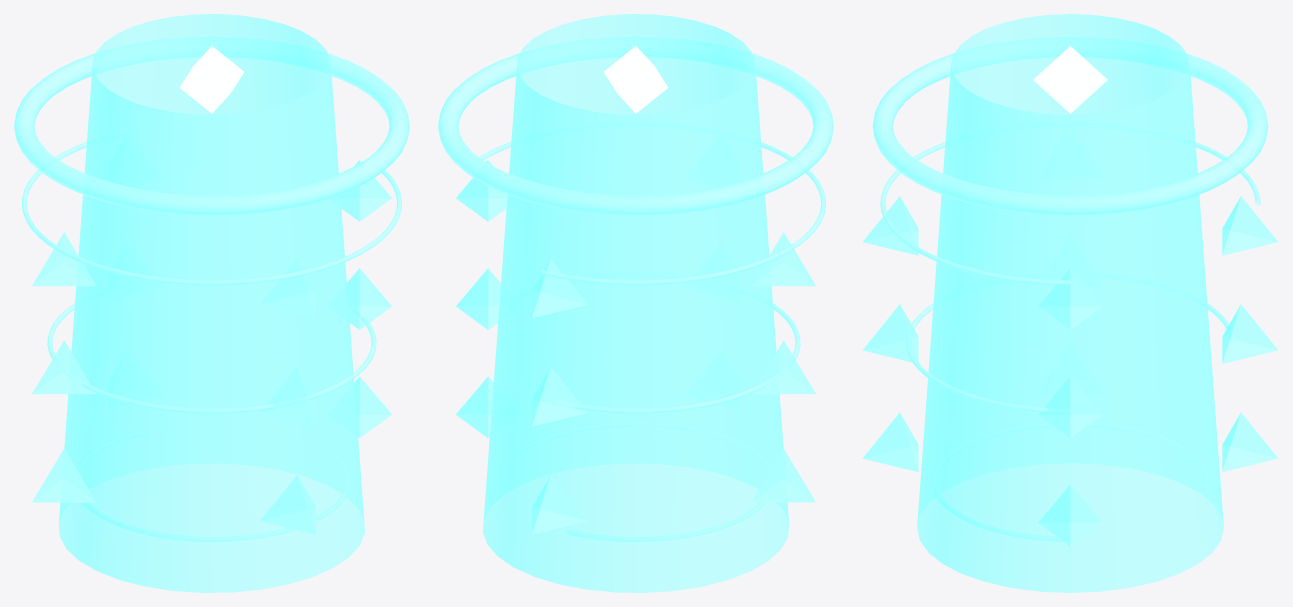
The model's file is vfx_tower_upgrade.glb.
The picture shows the model from 3 angles, left to right: view 1: azimuth 30°, elevation 25°; view 2: azimuth 150°, elevation 25°; view 3: azimuth 270°, elevation 25°; orthographic projection.
Visible parts, largest first — view 1: up_column, up_cap, up_tick2, up_tick1, up_star, up_tick0, up_chevron0_1, up_chevron1_1, up_chevron0_2, up_chevron1_2, up_chevron2_1, up_chevron2_2 (+3 smaller); view 2: up_column, up_cap, up_tick0, up_star, up_tick2, up_chevron0_3, up_chevron1_3, up_chevron0_2, up_chevron1_2, up_chevron2_3, up_tick1, up_chevron2_2 (+3 smaller); view 3: up_column, up_cap, up_star, up_tick0, up_chevron0_0, up_tick2, up_chevron1_0, up_chevron2_0, up_chevron0_1, up_chevron0_3, up_chevron2_3, up_chevron1_3 (+3 smaller).
Boxes of the visible parts, box(x1,y1,x2,y2) form: up_column: box(58, 14, 365, 592); up_cap: box(14, 37, 409, 215); up_tick2: box(22, 142, 401, 285); up_tick1: box(47, 303, 376, 413); up_star: box(179, 46, 243, 113); up_tick0: box(77, 430, 350, 541); up_chevron0_1: box(260, 475, 315, 534); up_chevron1_1: box(260, 366, 315, 426); up_chevron0_2: box(32, 448, 96, 502); up_chevron1_2: box(32, 340, 96, 394); up_chevron2_1: box(260, 258, 315, 318); up_chevron2_2: box(32, 232, 96, 286); up_column: box(482, 14, 789, 592); up_cap: box(438, 37, 833, 215); up_tick0: box(516, 422, 770, 541); up_star: box(604, 46, 668, 113); up_tick2: box(479, 142, 825, 285); up_chevron0_3: box(532, 475, 587, 534); up_chevron1_3: box(532, 366, 587, 426); up_chevron0_2: box(751, 448, 815, 502); up_chevron1_2: box(751, 340, 815, 394); up_chevron2_3: box(532, 258, 587, 318); up_tick1: box(494, 303, 800, 413); up_chevron2_2: box(751, 232, 815, 286); up_column: box(917, 14, 1223, 592); up_cap: box(872, 37, 1268, 215); up_star: box(1033, 46, 1107, 113); up_tick0: box(932, 422, 1208, 541); up_chevron0_0: box(1038, 484, 1102, 546); up_tick2: box(880, 142, 1260, 285); up_chevron1_0: box(1038, 376, 1102, 437); up_chevron2_0: box(1038, 268, 1102, 329); up_chevron0_1: box(862, 412, 918, 472); up_chevron0_3: box(1222, 412, 1278, 472); up_chevron2_3: box(1222, 196, 1278, 255); up_chevron1_3: box(1222, 304, 1277, 363).
Size of the model in its own units: 2.44 by 3.12 by 2.44.
